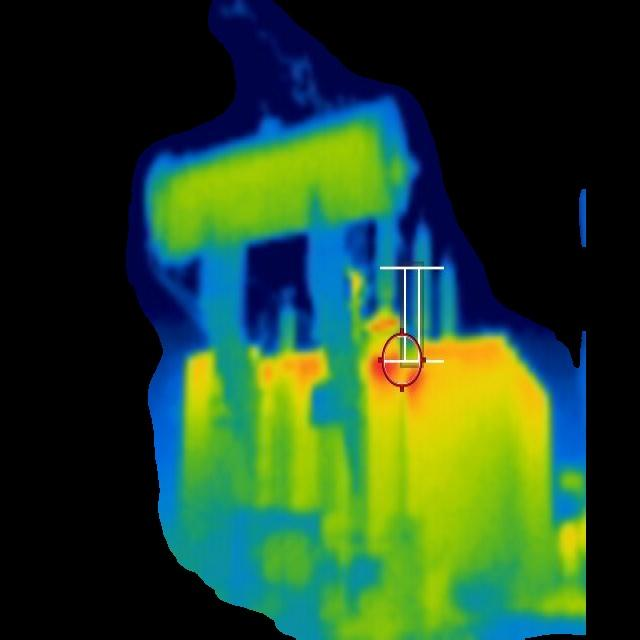Transformer Overload: (183, 341, 557, 576)
